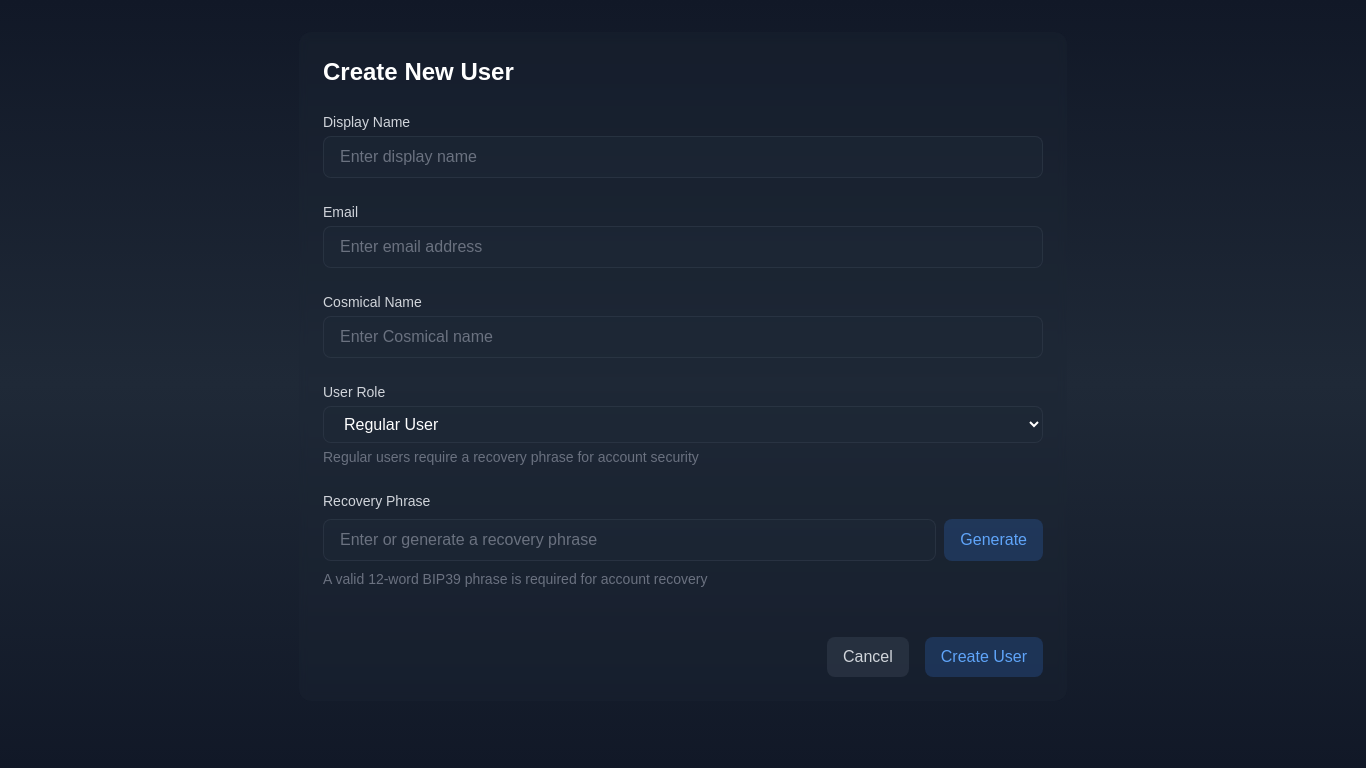
Test: UserEditForm.vue › Form Validation › validates email format
The image size is (1366, 768).
Type "invalid-email" into the field with placeholder "Enter email address" at (683, 247), box [323,226,1043,268]
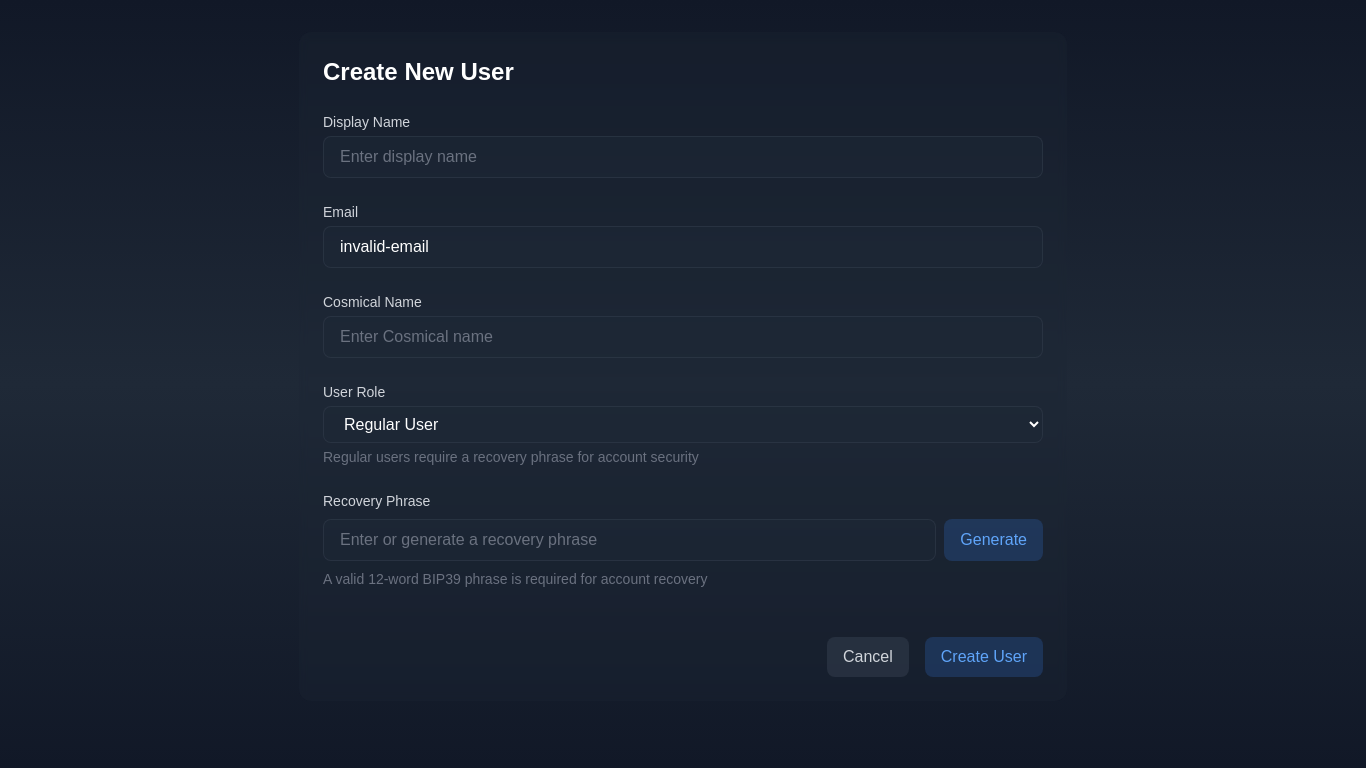
Submit the form, box [323,112,1043,677]
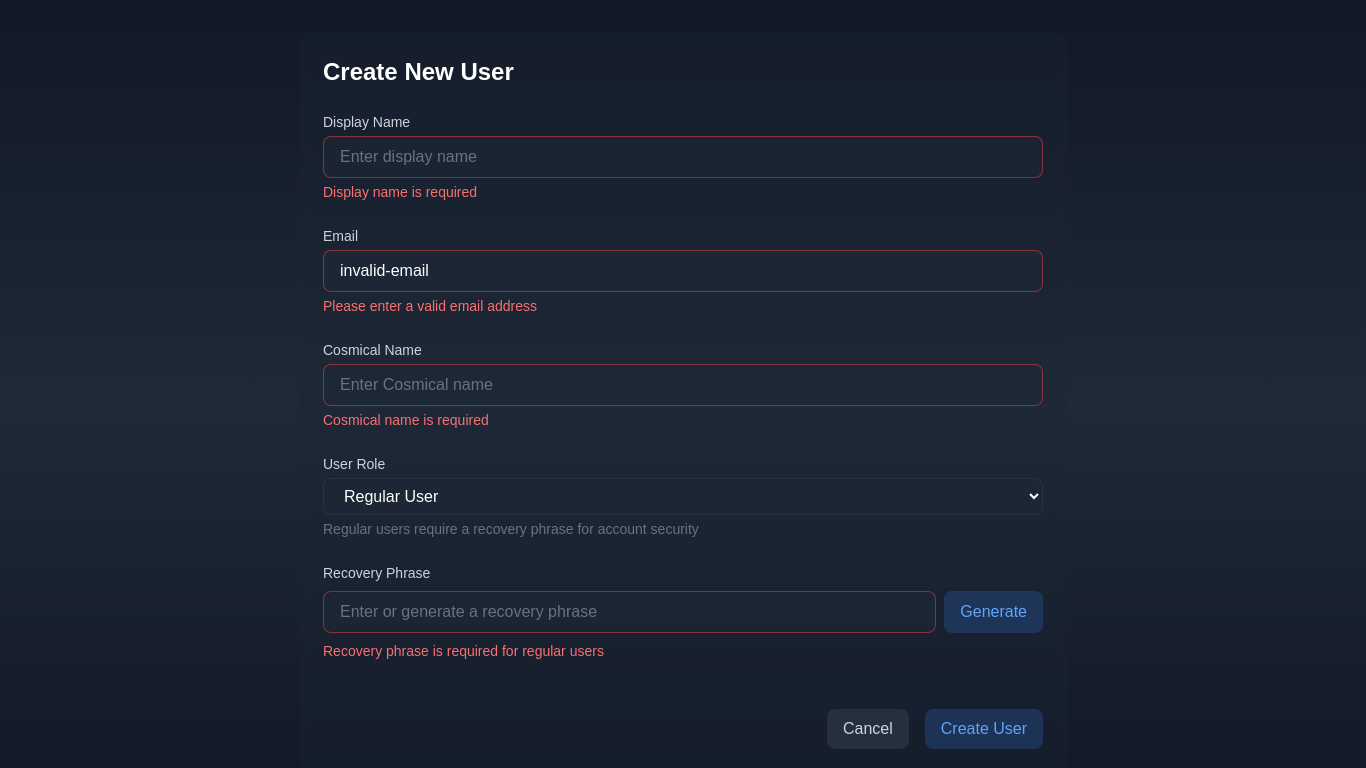
expect the text "Please enter a valid email address" is shown: met, box [323,298,537,314]
